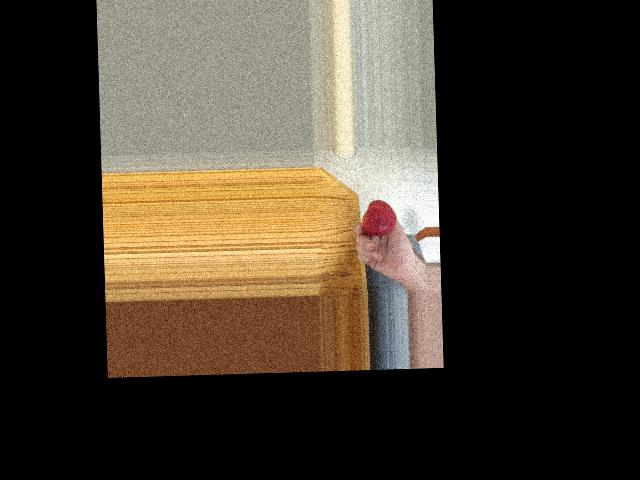apple: (359, 198, 398, 239)
